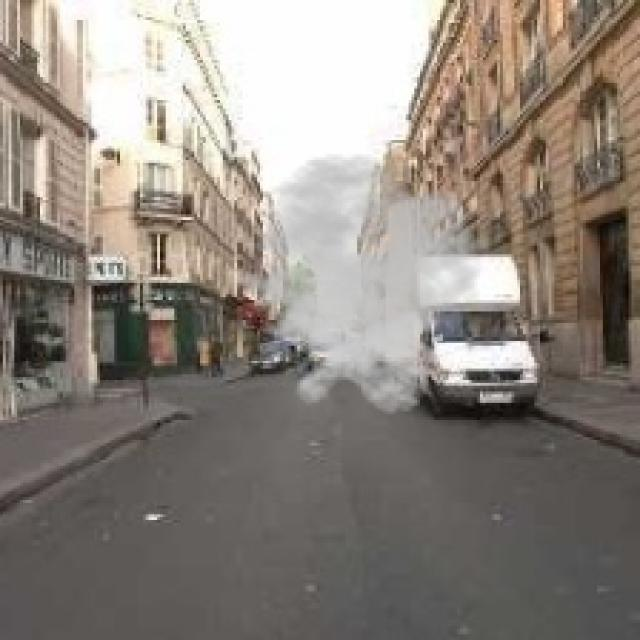smoke: (220, 152, 491, 414)
